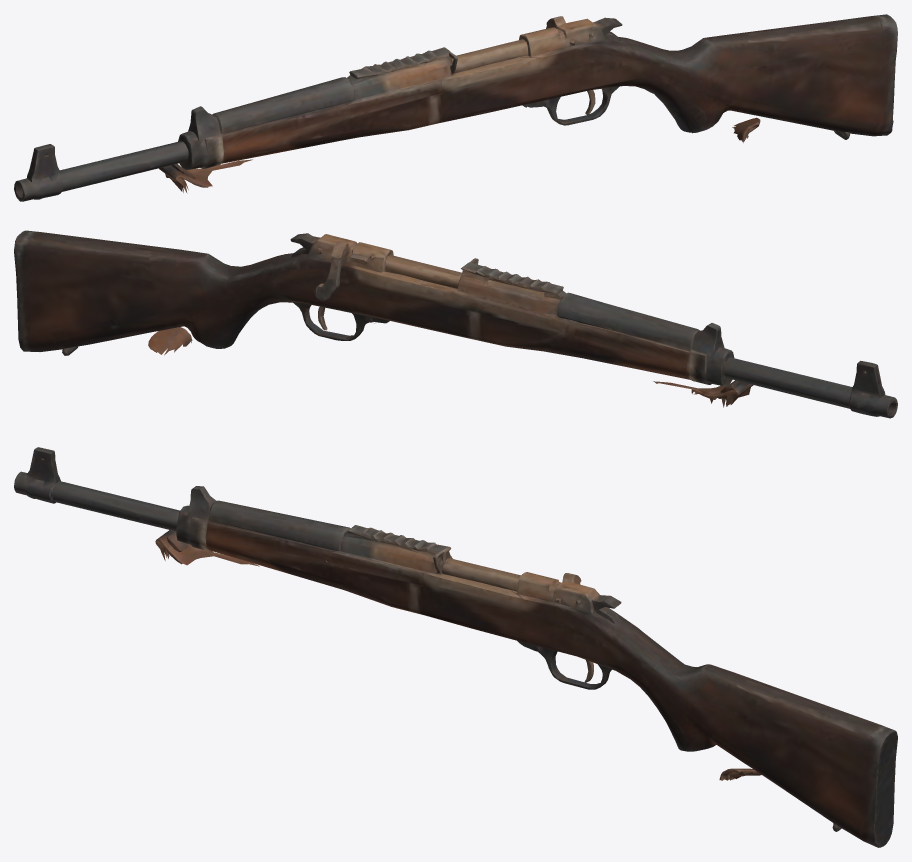
The model's file is rifle_prop.glb.
3 renders of one model, top to bottom at view 1: azimuth 30°, elevation 25°; view 2: azimuth 150°, elevation 25°; view 3: azimuth 330°, elevation 25°, orthographic.
Parts seen in each view (by area): view 1: main; view 2: main; view 3: main.
Part boxes in pixels (left/top/right/bottom): main: left=14, top=14, right=897, bottom=201; main: left=14, top=230, right=897, bottom=418; main: left=14, top=447, right=897, bottom=847.
Size of the model in its own units: 1.1 by 0.2319 by 0.0664.
1 material, 1 textured.
